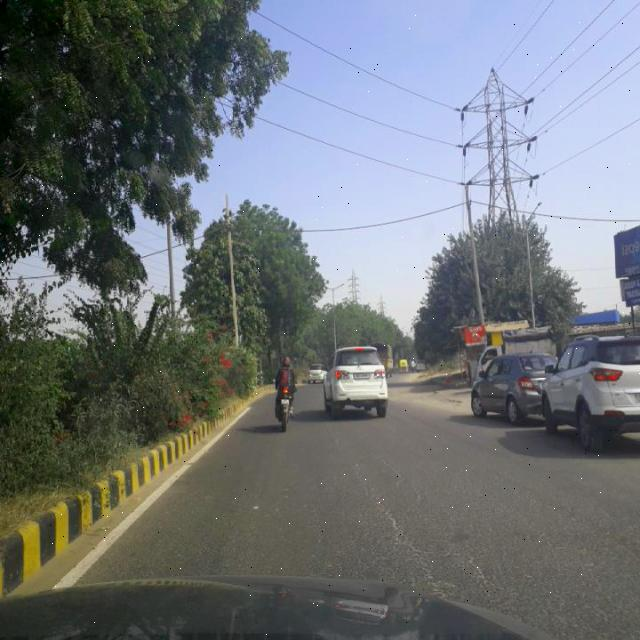D00: (372, 482, 460, 586)
D20: (326, 439, 626, 610)
